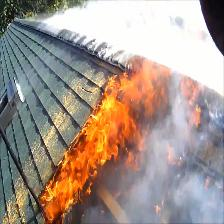fire: (53, 163, 85, 209), (86, 124, 115, 164), (113, 86, 137, 127)
smoke: (131, 157, 209, 224)
